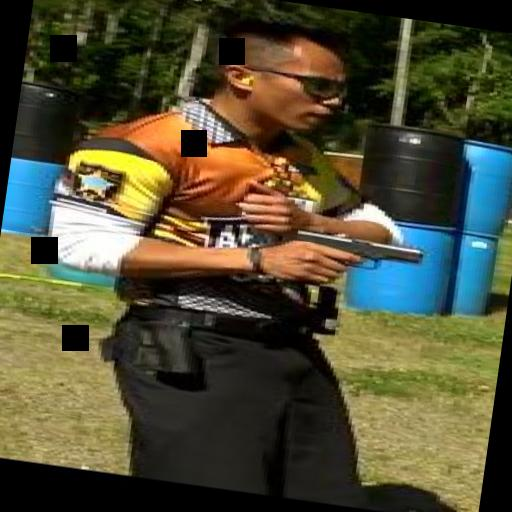Handgun: (276, 223, 428, 299)
